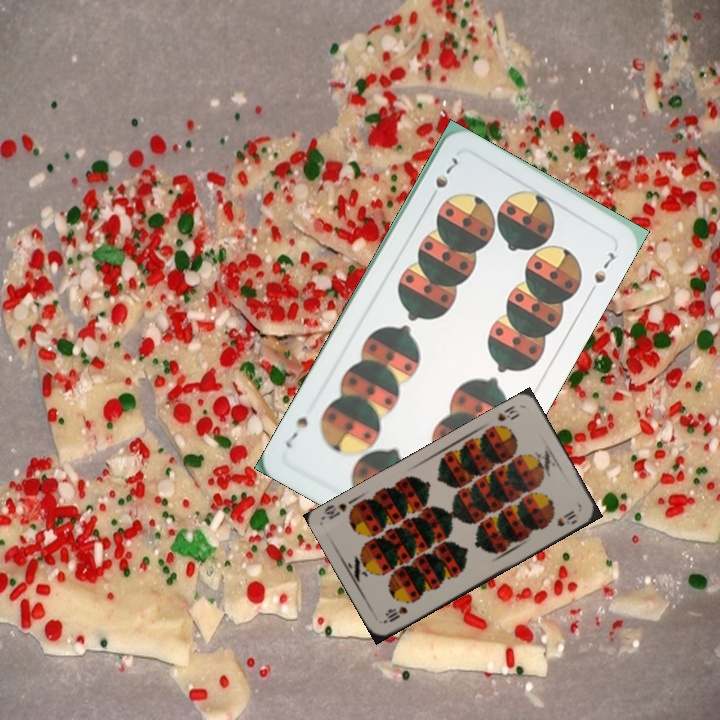S10: (380, 602, 410, 625), (494, 401, 522, 424)
S7: (425, 153, 461, 205)
